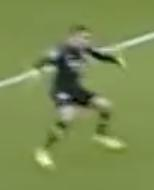goalkeeper: (18, 6, 140, 178)
